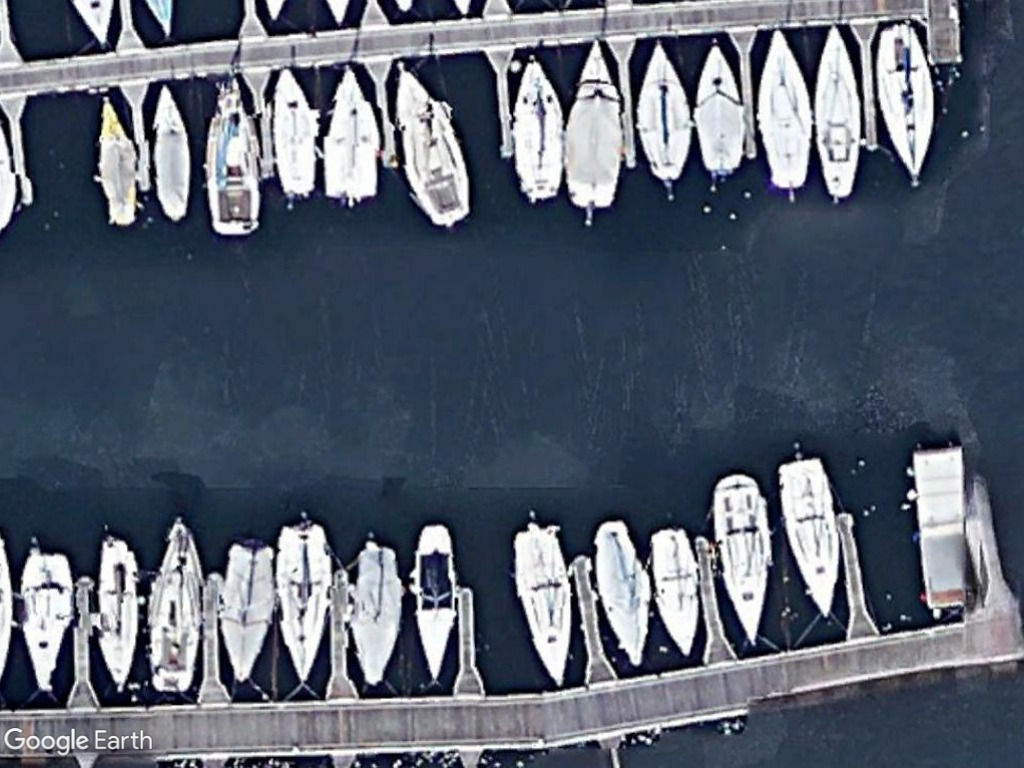boat: (387, 61, 473, 231), (504, 519, 576, 690), (772, 451, 840, 622), (806, 21, 869, 205), (706, 470, 770, 647), (559, 42, 624, 214), (143, 514, 204, 697), (750, 24, 813, 200), (875, 20, 939, 187), (200, 74, 264, 240), (586, 514, 652, 670), (500, 48, 564, 205), (276, 516, 333, 690), (14, 543, 77, 699), (630, 38, 690, 190), (320, 64, 383, 207), (87, 530, 141, 695), (221, 532, 278, 687), (404, 519, 457, 685), (690, 35, 747, 185), (347, 540, 403, 692), (82, 92, 141, 233), (264, 64, 318, 208), (645, 523, 700, 663), (144, 81, 195, 227)
